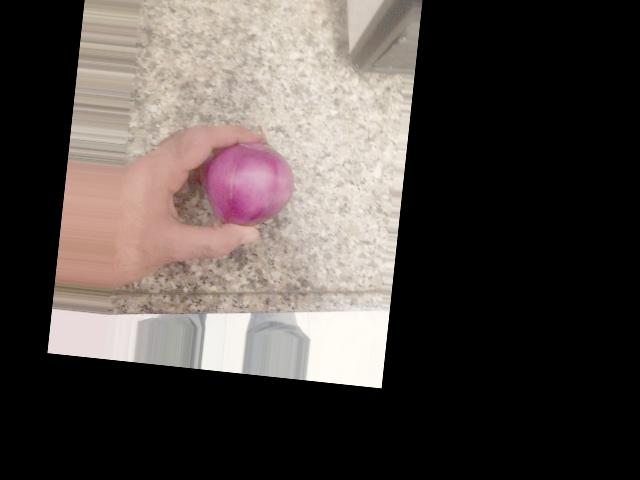onion: (295, 76, 394, 165)
